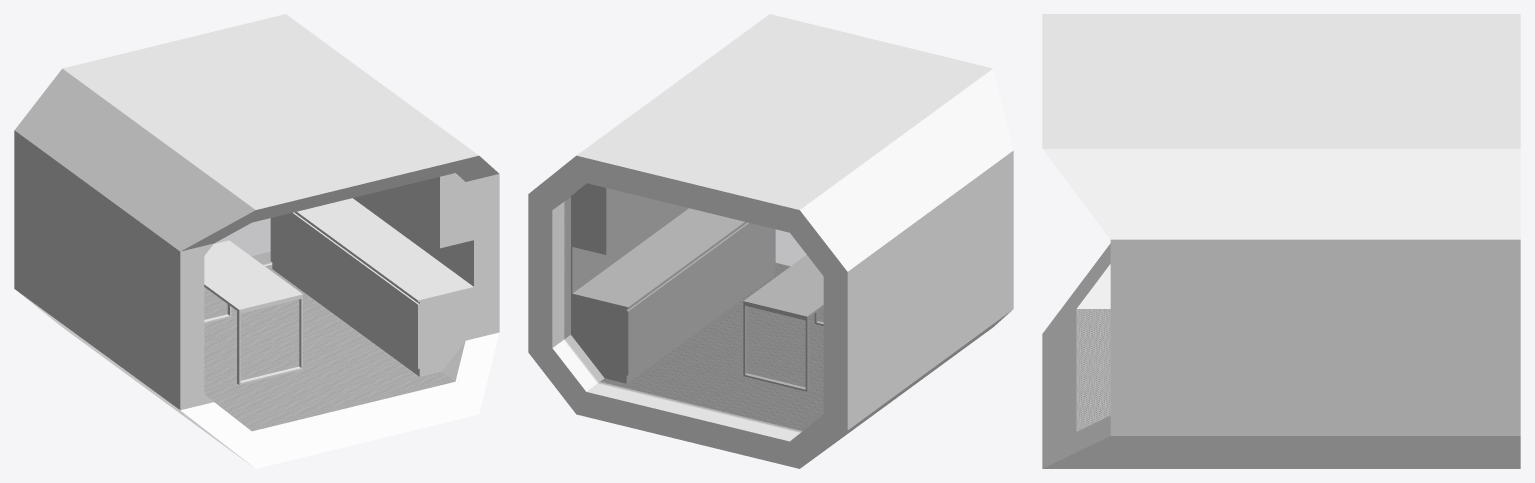
The model's file is ARKHA_L3_MealPrepBay_V1.glb.
The picture shows the model from 3 angles, left to right: view 1: azimuth 30°, elevation 25°; view 2: azimuth 150°, elevation 25°; view 3: azimuth 270°, elevation 25°; orthographic projection. The views are drawn at different scales.
Visible parts, largest first — view 1: 762442, 785621, 792080, 785176, 841091; view 2: 762442, 785176, 785621, 792080, 841145; view 3: 762442.
Boxes of the visible parts, left/top/right/bottom form: 762442: left=14, top=14, right=499, bottom=468; 785621: left=270, top=173, right=475, bottom=376; 792080: left=204, top=240, right=302, bottom=312; 785176: left=214, top=218, right=271, bottom=264; 841091: left=237, top=297, right=302, bottom=384; 762442: left=528, top=14, right=1013, bottom=468; 785176: left=564, top=183, right=823, bottom=431; 785621: left=571, top=183, right=775, bottom=383; 792080: left=743, top=255, right=823, bottom=318; 841145: left=743, top=303, right=809, bottom=391; 762442: left=1042, top=14, right=1520, bottom=468.
Bounding box in the file's own units: 4 × 3.1 × 4.2.
990 materials, 1 textured.
